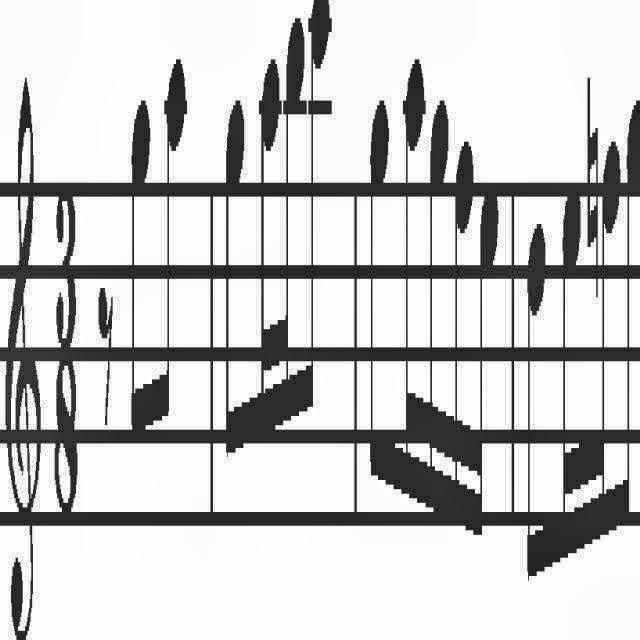Bass-clef: (4, 64, 44, 640)
Eighth-note: (154, 45, 188, 445), (308, 0, 332, 430), (367, 88, 391, 510), (525, 216, 549, 608), (128, 89, 152, 445), (622, 82, 640, 554), (225, 90, 247, 472)
Eighth-rest: (98, 278, 114, 430)
Sixteenth-note: (402, 39, 426, 536), (256, 50, 284, 458), (282, 4, 306, 456), (598, 130, 622, 552), (476, 138, 500, 546), (428, 80, 449, 544), (560, 184, 584, 586), (452, 118, 473, 542)
